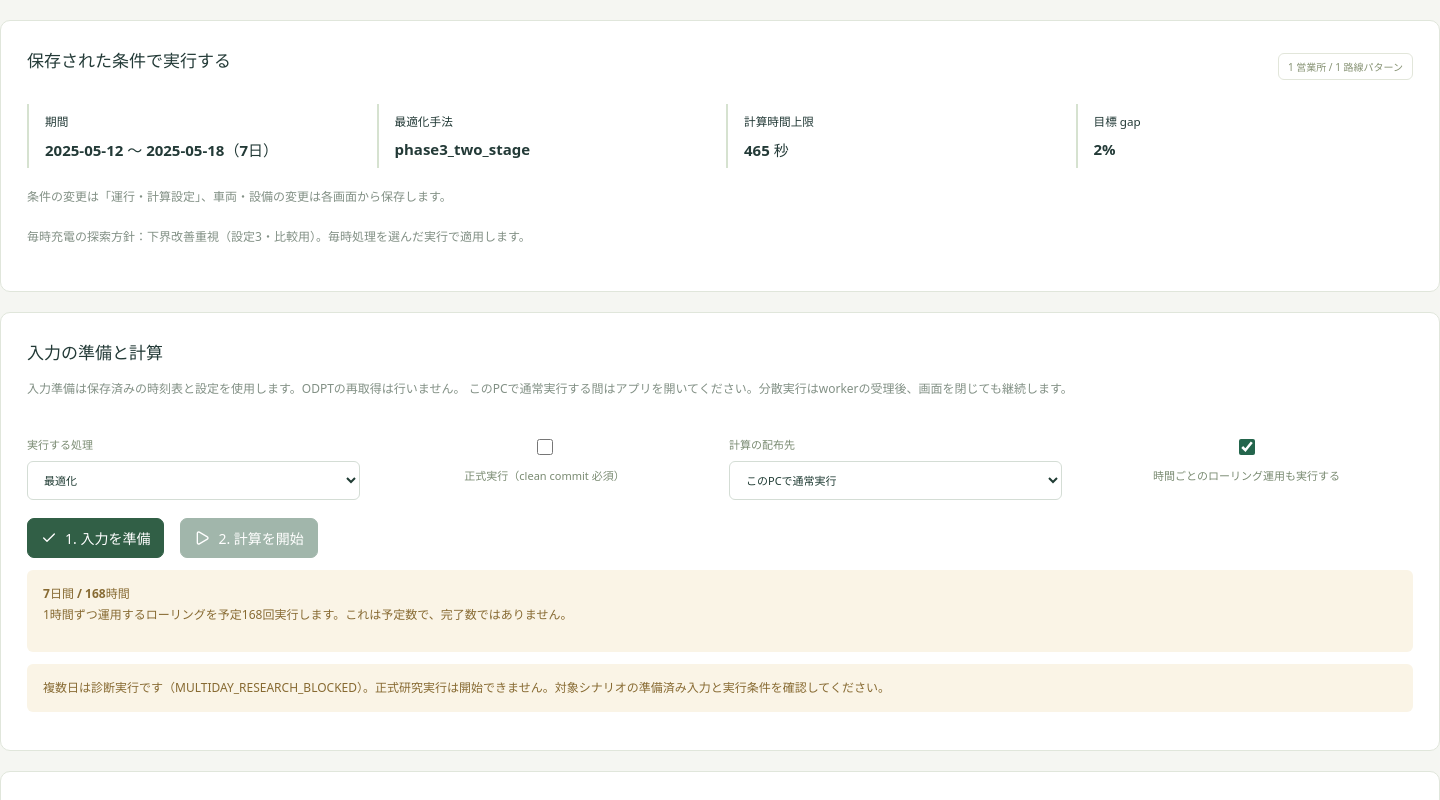
rejects a prepared input when another writer changes saved settings
Click the button "1. 入力を準備" at (96, 538), box [27,518,164,558]
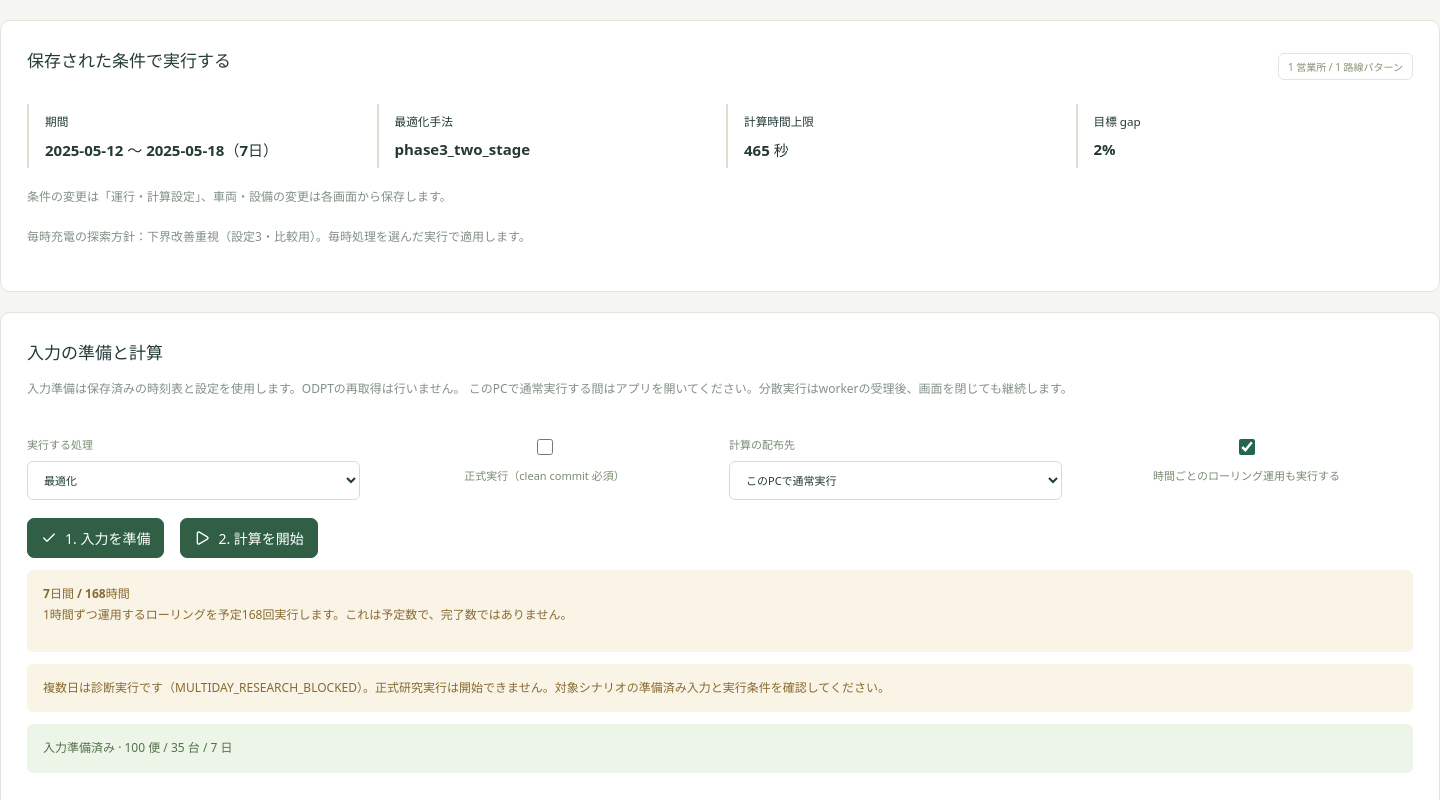
Expected: the text "入力準備済み · 100 便 / 35 台 / 7 日" is shown, [27,724,1413,773]
Click the button "2. 計算を開始" at (249, 538), box [180,518,318,558]
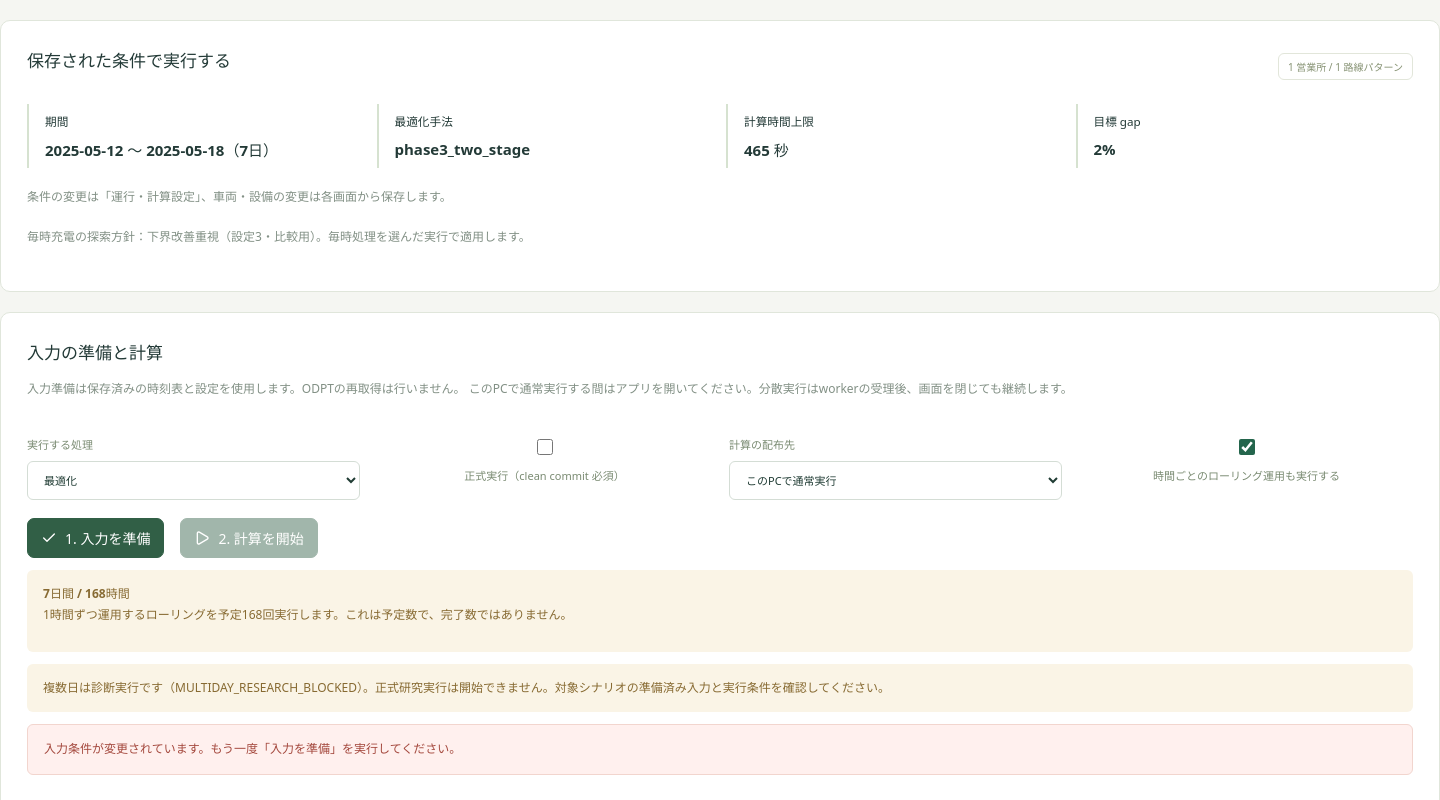
Expected: the text "入力条件が変更されています。もう一度「入力を準備」を実行してください。" is shown, [27,724,1413,775]
